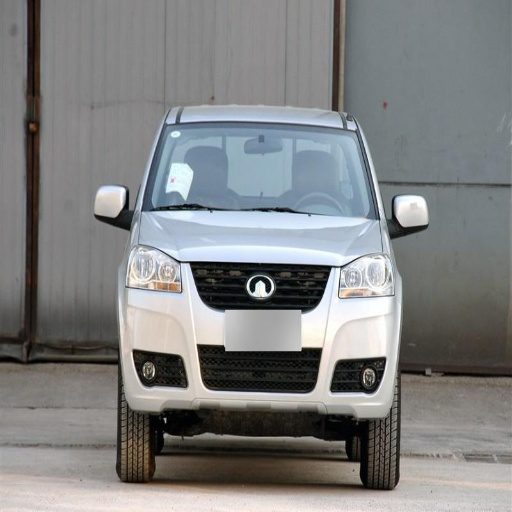front_bumper: (123, 261, 396, 419)
front_right_light: (126, 244, 182, 293)
hood: (139, 211, 378, 266)
left_mirror: (390, 195, 429, 237)
